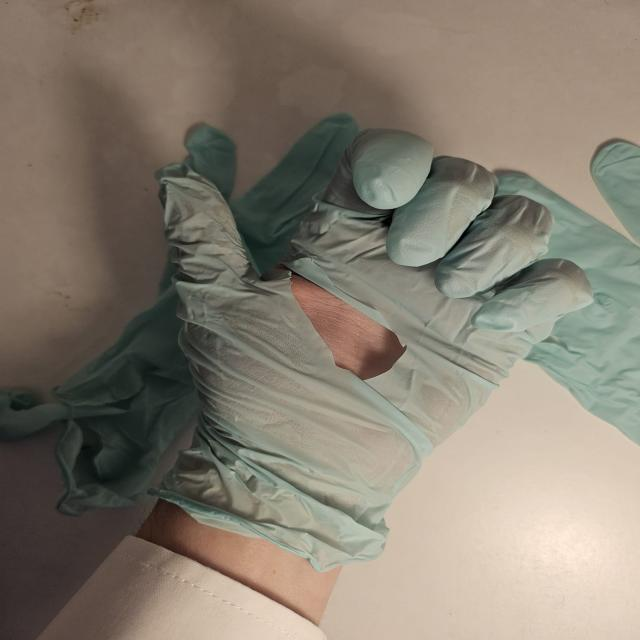gloves_damaged: (152, 120, 598, 577)
